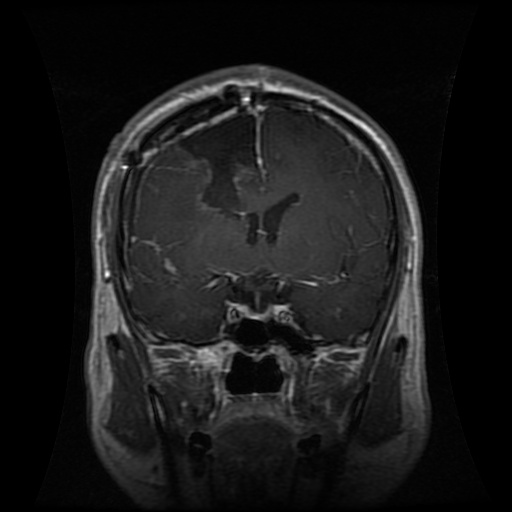glioma: (168, 103, 266, 221)
